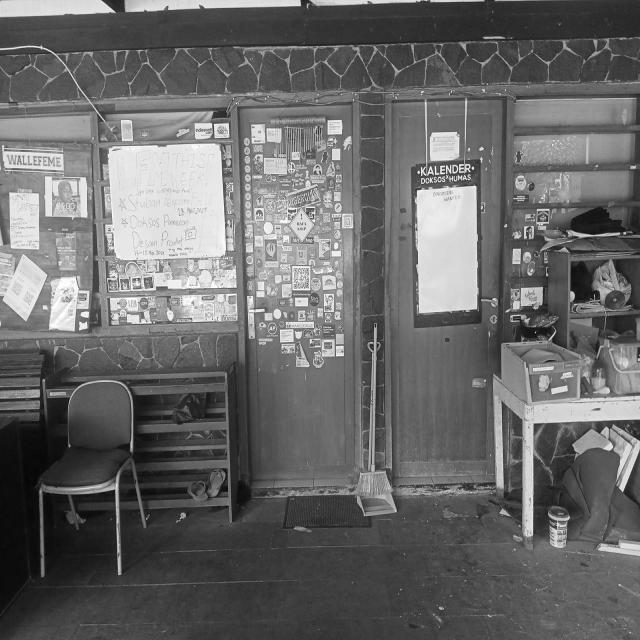door: (384, 88, 512, 486), (234, 94, 362, 482)
